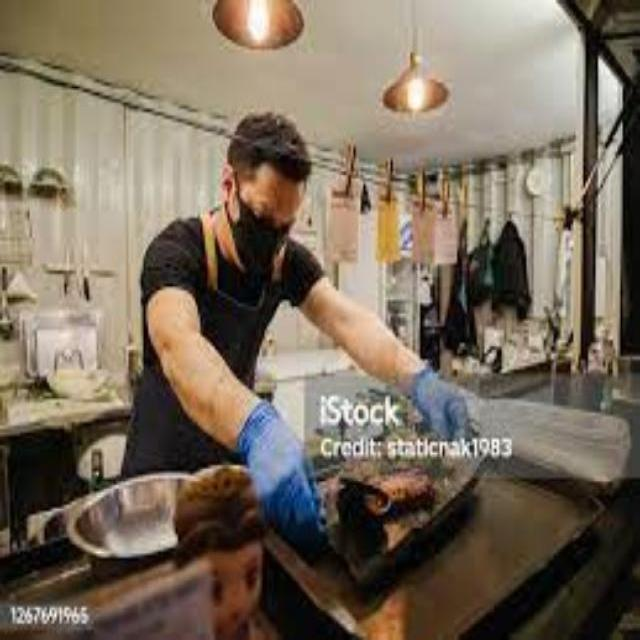gloved_hand: (237, 399, 332, 567), (405, 373, 493, 461)
